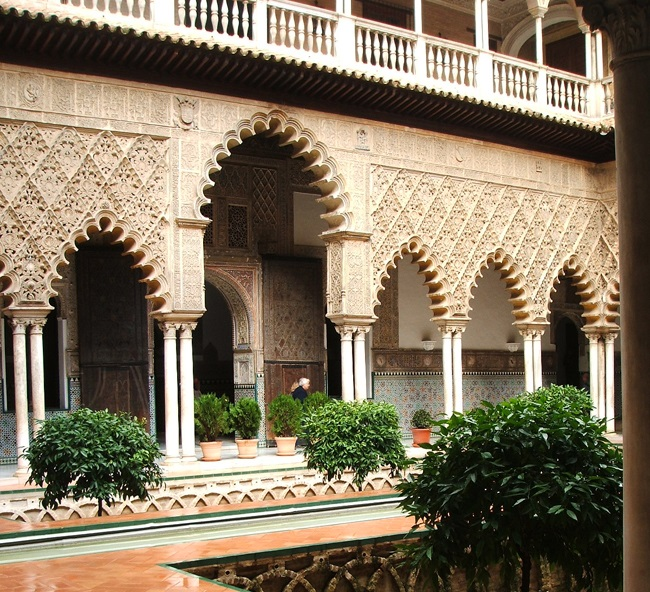arco-lobulado: (188, 104, 350, 239), (32, 205, 172, 317), (364, 233, 453, 329), (454, 243, 536, 335), (537, 250, 604, 339)
